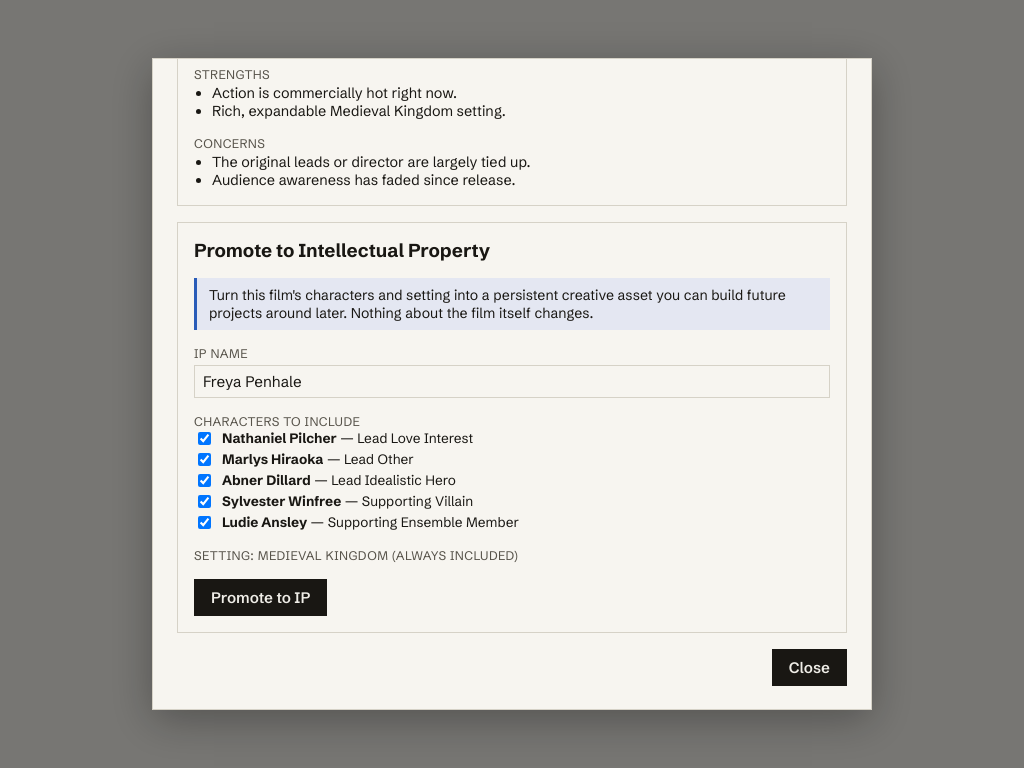
it: FilmDetailModal - Promote to IP › promotes the player's film from its dossier, then shows the resulting IP
This screenshot has width=1024, height=768.
(page scrolled)
expect the heading "Promote to Intellectual Property" is shown: met, box [194, 239, 490, 262]
Click the button "Promote to IP": {"x": 261, "y": 597} [194, 579, 327, 616]
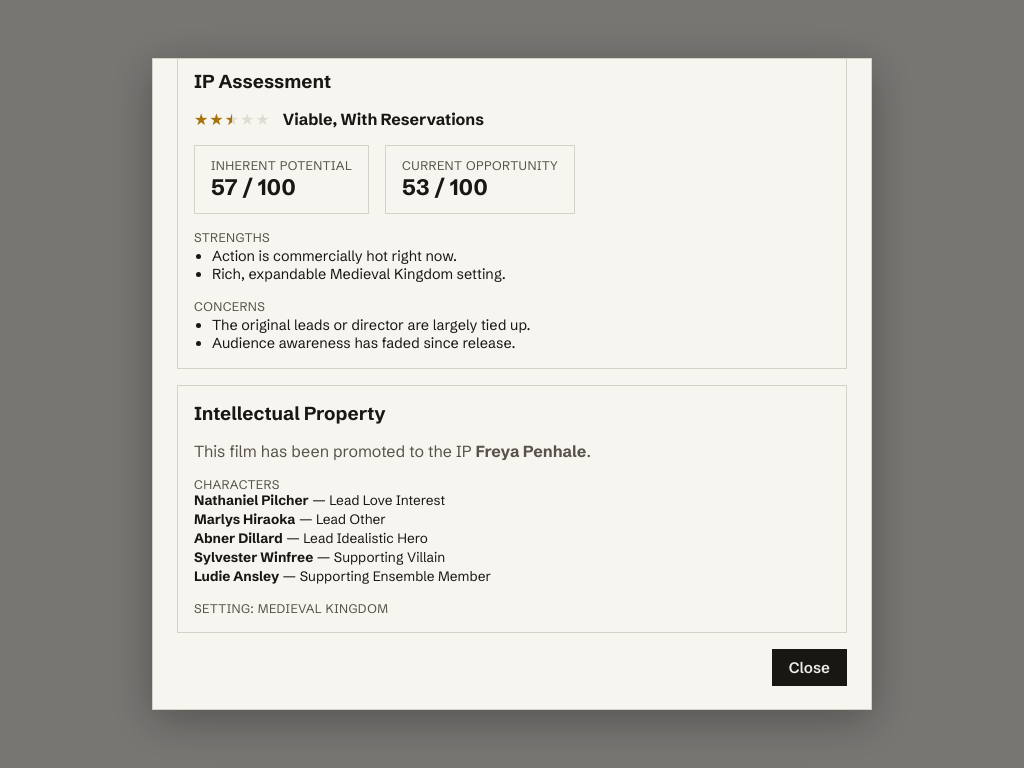
expect the heading "Intellectual Property" is shown: met, box [194, 402, 386, 425]
expect the text "This film has been promoted to the IP Freya Penhale." is shown: met, box [194, 441, 591, 461]
expect the button "Promote to IP" is gone: met
